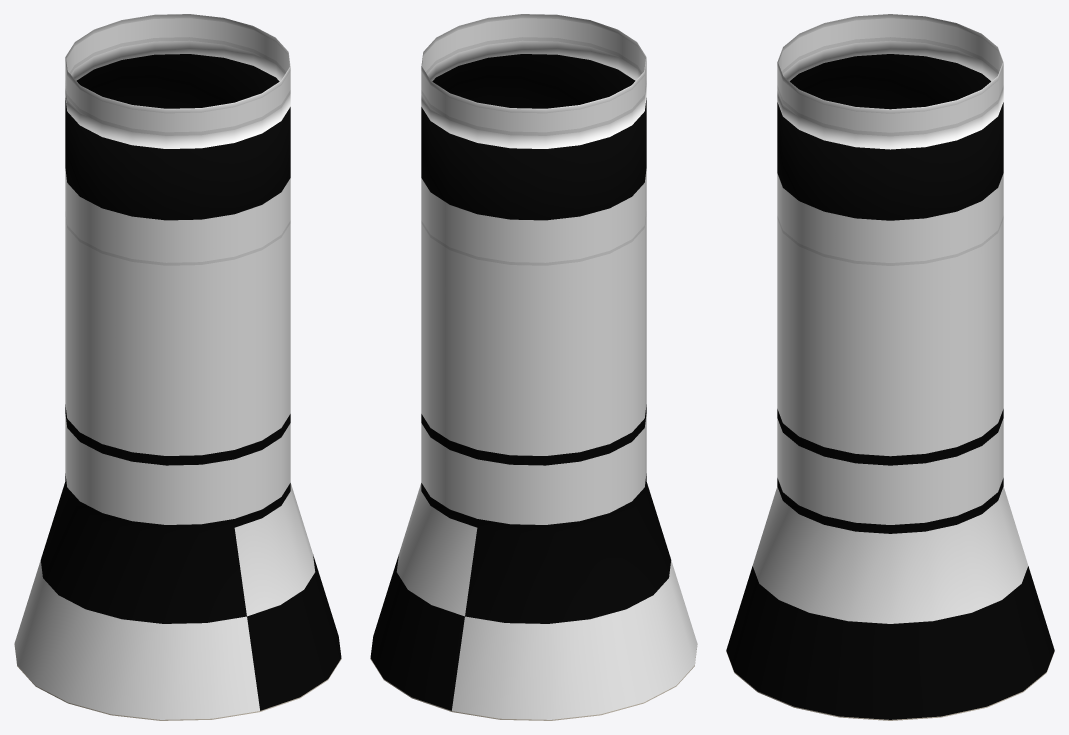
File: etapa3.obj
3 views of the same model, side by side, from view 1: azimuth 30°, elevation 25°; view 2: azimuth 150°, elevation 25°; view 3: azimuth 270°, elevation 25° (orthographic).
Bounding box in the file's own units: 1.15 × 2.27 × 1.15.
